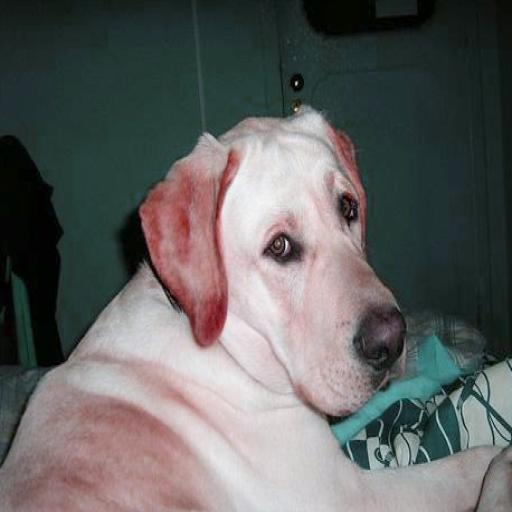dog_face: (166, 111, 409, 414)
